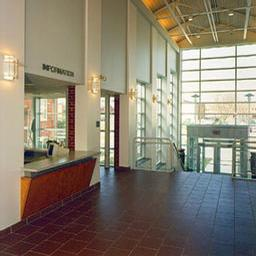Escaleras: (170, 143, 239, 179)
